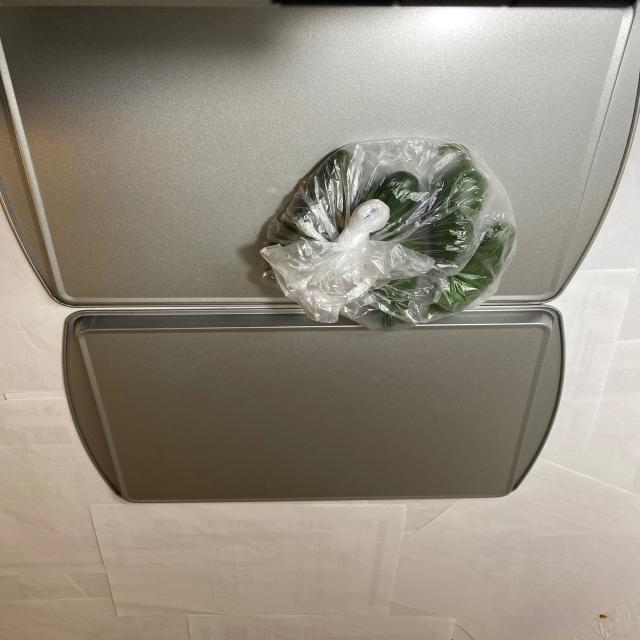chilli: (271, 144, 521, 329)
